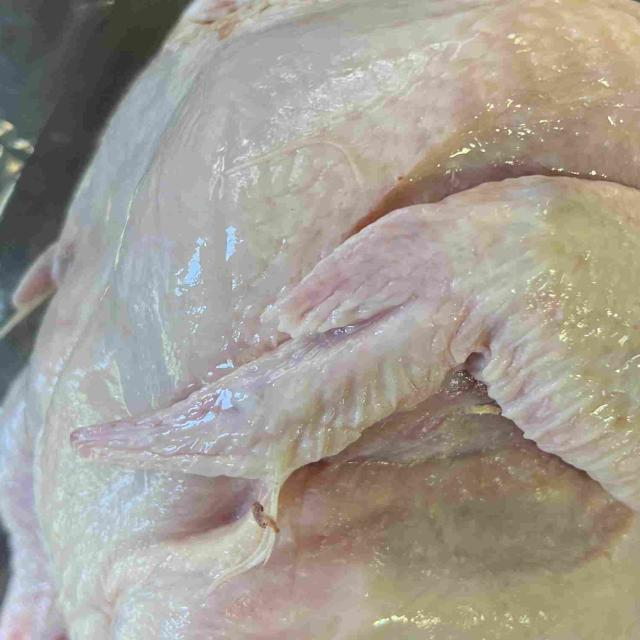leg: (97, 450, 640, 640), (0, 372, 89, 640)
wing: (65, 172, 640, 509)
